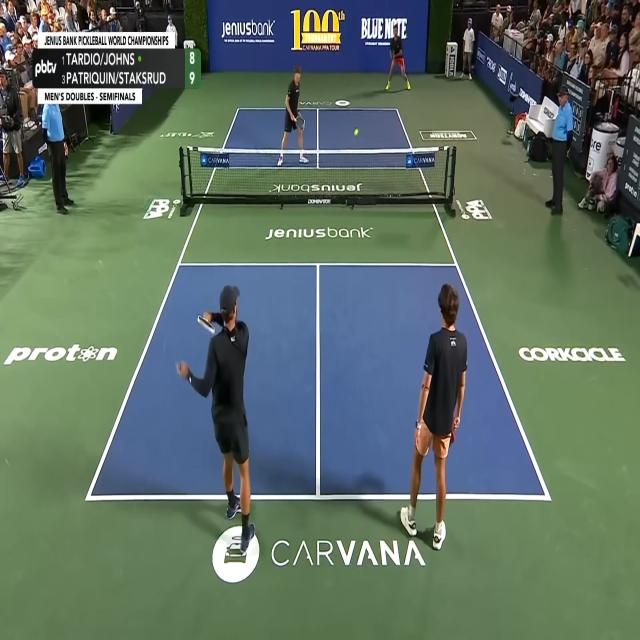ball: (354, 127, 358, 136)
